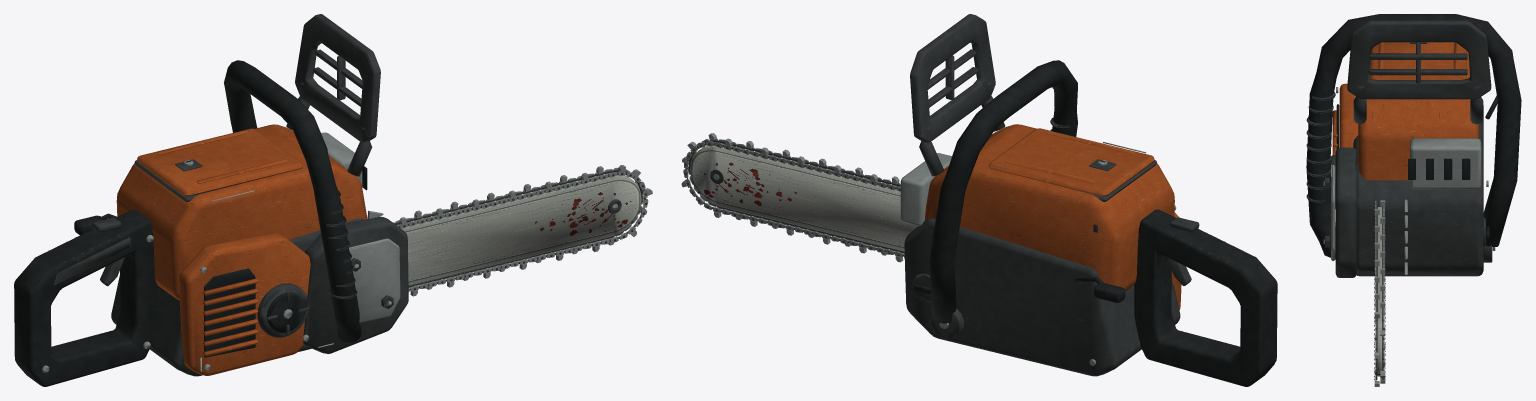
The model's file is chainsaw.glb.
The picture shows the model from 3 angles, left to right: view 1: azimuth 30°, elevation 25°; view 2: azimuth 150°, elevation 25°; view 3: azimuth 270°, elevation 25°; orthographic projection. The views are drawn at different scales.
Parts seen in each view (by area): view 1: powerhead, rear_handle, guidebar, front_handle, clutch_cover, front_guard, chain, hardware, trigger; view 2: powerhead, rear_handle, guidebar, front_handle, front_guard, chain, hardware, trigger; view 3: powerhead, front_handle, front_guard, hardware, clutch_cover, chain, guidebar.
Part boxes in pixels (x1,y1,x2,y2): powerhead: (111,124,370,376); rear_handle: (14,209,157,386); guidebar: (401,175,641,285); front_handle: (224,60,361,342); clutch_cover: (303,210,408,353); front_guard: (286,14,380,176); chain: (393,165,652,296); hardware: (74,132,367,370); trigger: (92,217,124,286); powerhead: (904,124,1181,376); rear_handle: (1134,209,1277,386); guidebar: (690,145,917,251); front_handle: (929,60,1077,338); front_guard: (910,14,1005,176); chain: (681,133,904,262); hardware: (900,153,1176,365); trigger: (1166,217,1199,285); powerhead: (1331,42,1483,276); front_handle: (1306,14,1521,262); front_guard: (1347,20,1491,124); hardware: (1330,42,1497,246); clutch_cover: (1323,147,1407,277); chain: (1374,200,1385,386); guidebar: (1377,207,1382,376).
Size of the model in its own units: 0.8175 by 0.356 by 0.262.
7 materials, 6 textured.
